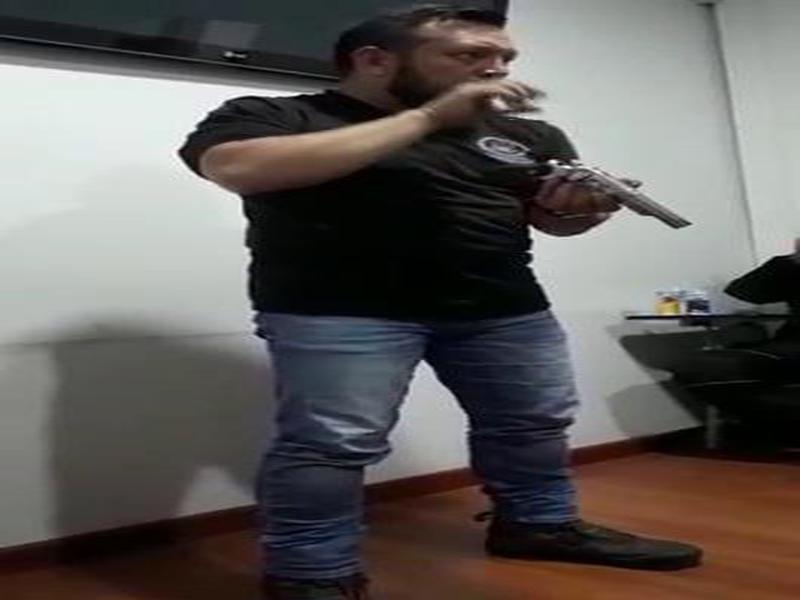Revolver: (501, 121, 693, 262)
